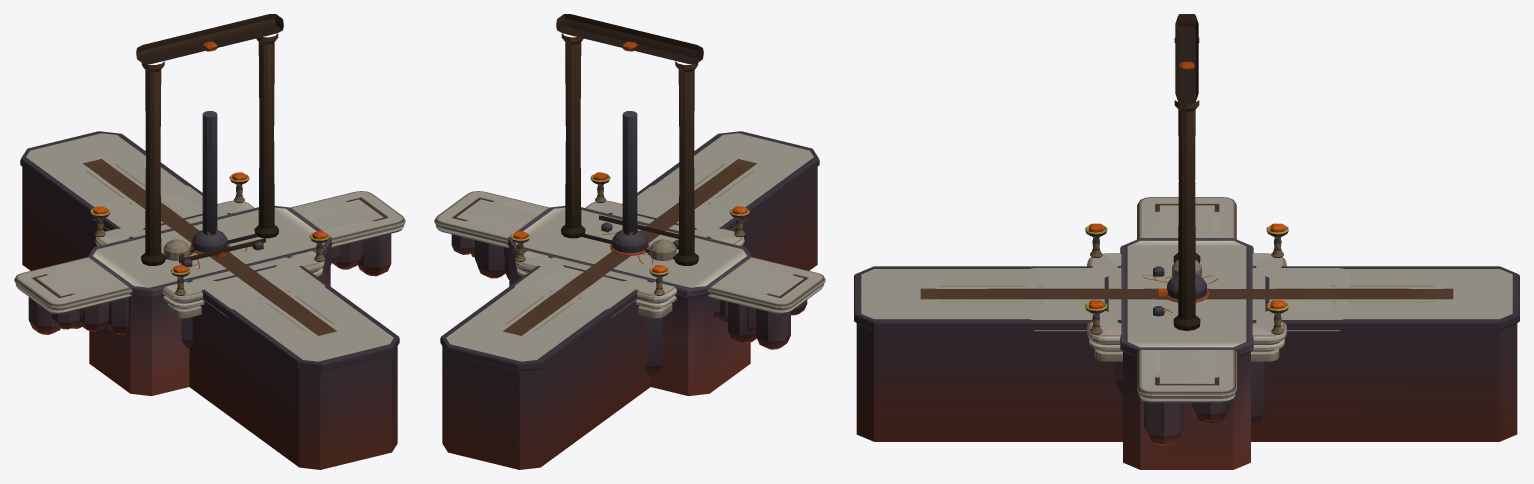
The model's file is volcano-6-D0LcIIc7.glb.
3 renders of one model, left to right at view 1: azimuth 30°, elevation 25°; view 2: azimuth 150°, elevation 25°; view 3: azimuth 270°, elevation 25°, orthographic. The views are drawn at different scales.
Parts seen in each view (by area): view 1: block_8x2x40_ledge#0, block_16x2x8_ledge#0, block_28x2x6#0, pressFrame_7x6x3x7#0, block_8x2x20_ice#0, beam_1.5x1x32#0, pad_12x2x12#0, press_3.5x6x2#0, pad_12x2x12_ledge#0, block_2.5x2x32_grate#0, block_24x2x5#0, barHub_11x1.2#0 (+3 smaller); view 2: block_8x2x40_ledge#0, block_16x2x8_ledge#0, block_28x2x6#0, pressFrame_7x6x3x7#0, block_8x2x20_ice#0, beam_1.5x1x32#0, pad_12x2x12_ledge#0, pad_12x2x12#0, press_3.5x6x2#0, block_2.5x2x32_grate#0, block_24x2x5#0, barHub_11x1.2#0 (+3 smaller); view 3: block_8x2x40_ledge#0, block_16x2x8_ledge#0, block_28x2x6#0, pressFrame_7x6x3x7#0, beam_1.5x1x32#0, block_8x2x20_ice#0, pad_12x2x12#0, pad_12x2x12_ledge#0, block_2.5x2x32_grate#0, block_8x2x10#0, belt_2.5x1.5x30x0#0, block_24x2x5#0.
Boxes of the visible parts, bbox=[...] form: block_8x2x40_ledge#0: bbox=[20, 131, 399, 469]; block_16x2x8_ledge#0: bbox=[88, 206, 332, 395]; block_28x2x6#0: bbox=[14, 191, 405, 335]; pressFrame_7x6x3x7#0: bbox=[136, 14, 283, 265]; block_8x2x20_ice#0: bbox=[93, 185, 325, 317]; beam_1.5x1x32#0: bbox=[83, 159, 336, 335]; pad_12x2x12#0: bbox=[90, 174, 329, 348]; press_3.5x6x2#0: bbox=[202, 111, 217, 234]; pad_12x2x12_ledge#0: bbox=[90, 172, 329, 318]; block_2.5x2x32_grate#0: bbox=[82, 159, 337, 335]; block_24x2x5#0: bbox=[45, 201, 374, 316]; barHub_11x1.2#0: bbox=[165, 230, 258, 259]; block_8x2x40_ledge#0: bbox=[440, 131, 819, 469]; block_16x2x8_ledge#0: bbox=[507, 206, 751, 395]; block_28x2x6#0: bbox=[434, 191, 825, 349]; pressFrame_7x6x3x7#0: bbox=[556, 14, 703, 265]; block_8x2x20_ice#0: bbox=[514, 185, 746, 317]; beam_1.5x1x32#0: bbox=[503, 159, 756, 335]; pad_12x2x12_ledge#0: bbox=[510, 172, 749, 376]; pad_12x2x12#0: bbox=[510, 174, 749, 318]; press_3.5x6x2#0: bbox=[622, 111, 637, 234]; block_2.5x2x32_grate#0: bbox=[502, 159, 757, 335]; block_24x2x5#0: bbox=[465, 201, 794, 333]; barHub_11x1.2#0: bbox=[581, 230, 674, 259]; block_8x2x40_ledge#0: bbox=[854, 266, 1519, 441]; block_16x2x8_ledge#0: bbox=[1120, 238, 1253, 469]; block_28x2x6#0: bbox=[1137, 197, 1236, 445]; pressFrame_7x6x3x7#0: bbox=[1173, 14, 1200, 330]; beam_1.5x1x32#0: bbox=[920, 288, 1453, 299]; block_8x2x20_ice#0: bbox=[1025, 268, 1348, 331]; pad_12x2x12#0: bbox=[1085, 225, 1288, 429]; pad_12x2x12_ledge#0: bbox=[1085, 223, 1288, 393]; block_2.5x2x32_grate#0: bbox=[924, 286, 1449, 301]; block_8x2x10#0: bbox=[1108, 268, 1265, 319]; belt_2.5x1.5x30x0#0: bbox=[939, 285, 1434, 302]; block_24x2x5#0: bbox=[1154, 211, 1219, 418].
Bounding box in the file's own units: 28 × 24.28 × 40.
